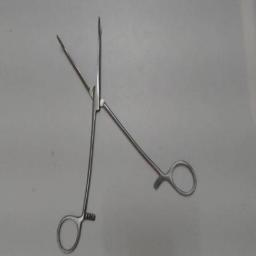Lahey Forceps: (51, 12, 203, 254)
